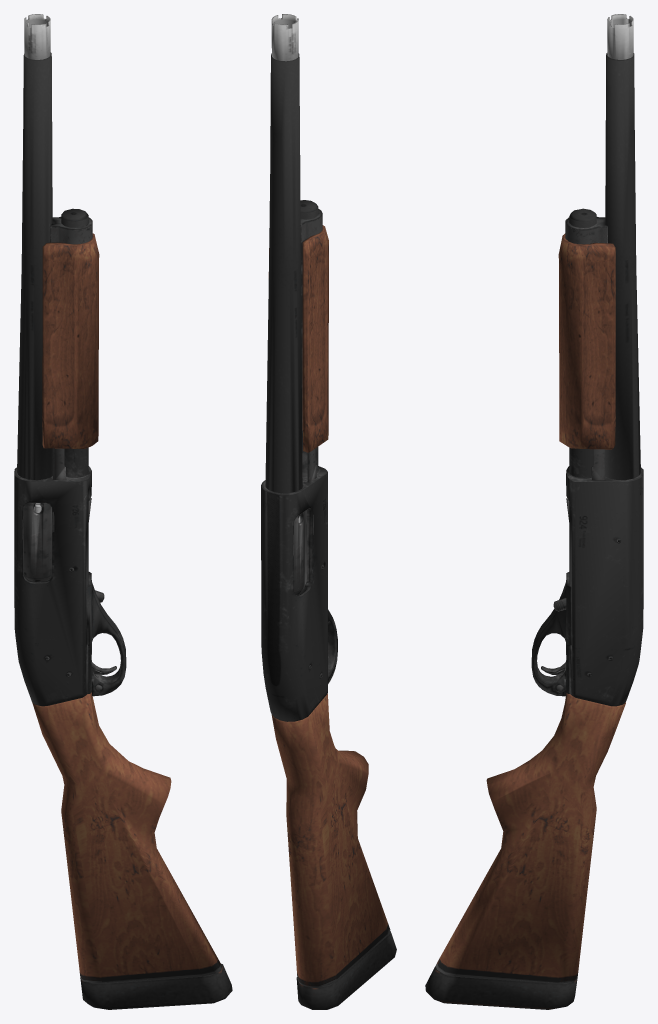
Rendered from ShotgunChoke.fbx.
The picture shows the model from 3 angles, left to right: view 1: azimuth 90°, elevation 25°; view 2: azimuth 150°, elevation 25°; view 3: azimuth 270°, elevation 25°; orthographic projection. The views are drawn at different scales.
Visible parts, largest first — view 1: ShotgunChoke; view 2: ShotgunChoke; view 3: ShotgunChoke.
Part boxes in pixels (x1,y1,x2,y2): ShotgunChoke: (14,14,232,1009); ShotgunChoke: (261,14,396,1009); ShotgunChoke: (425,14,643,1009).
Size of the model in its own units: 0.0273 by 0.6005 by 0.1209.
